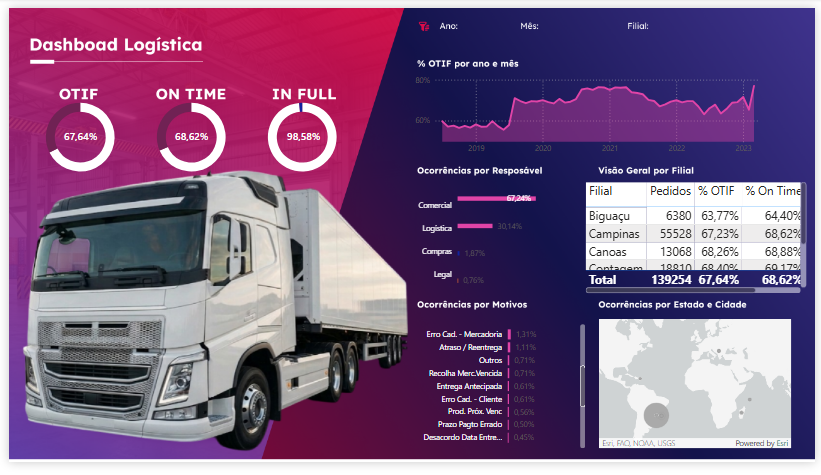

What the dashboard file says about the page in this screenshot:
{"tool":"powerbi","page":{"name":"Página 1","canvas":[1280,720],"ordinal":0},"visuals":[{"type":"donutChart","fields":{"Y":["Medidas.% OTIF","Medidas.1 - % otif"]},"box":[23.2,132.1,178.6,146.4],"z":0},{"type":"areaChart","fields":{"Y":["Medidas.% OTIF"],"Category":["Pedidos.DataPedido.Variation.Hierarquia de datas.Ano","Pedidos.DataPedido.Variation.Hierarquia de datas.Mês"]},"box":[639.1,100,560.9,141.3],"z":1000},{"type":"clusteredBarChart","fields":{"Y":["Medidas.Ocorrências"],"Category":["Pedidos.MotivoOcorrencia"]},"box":[640.5,489.2,278.4,214.9],"z":2000},{"type":"esriVisual","fields":{"Size":["Medidas.Ocorrências"],"Location":["Pedidos.Estado"],"Color":["Pedidos.Cidade"]},"box":[932.4,489.2,314.9,214.9],"z":3000},{"type":"tableEx","fields":{"Values":["Pedidos.Filial","Medidas.Pedidos","Medidas.% OTIF","Medidas.% On Time","Medidas.% In Full"]},"box":[909.5,271.6,360.8,186.5],"z":4000},{"type":"card","fields":{"Values":["Medidas.% OTIF"]},"box":[25,137.5,176.8,133.9],"z":5000},{"type":"card","fields":{"Values":["Medidas.% On Time"]},"box":[201.8,137.5,176.8,133.9],"z":6000},{"type":"card","fields":{"Values":["Medidas.% In Full"]},"box":[378.6,137.5,176.8,133.9],"z":7000},{"type":"donutChart","fields":{"Y":["Medidas.% In Full","Medidas.1 - % In Full"]},"box":[376.8,132.1,178.6,146.4],"z":8000},{"type":"donutChart","fields":{"Y":["Medidas.% On Time","Medidas.1 - % On Time"]},"box":[200,132.1,178.6,146.4],"z":9000},{"type":"clusteredBarChart","fields":{"Category":["Pedidos.ResponsabilidadeOcorrencia"],"Series":["Pedidos.ResponsabilidadeOcorrencia"],"Y":["Medidas.Ocorrências"]},"box":[639.3,271.4,242.9,185.7],"z":10000}]}

Visuals, with their boxes in screenshot pixels (x1, y1, x2, y2), scaled from the page's 1280x720 canvas onto the 821x475 screenshot:
donutChart - Medidas.% OTIF x Medidas.1 - % otif: region(15, 87, 129, 184)
areaChart - Medidas.% OTIF x Pedidos.DataPedido.Variation.Hierarquia de datas.Ano: region(410, 66, 770, 159)
clusteredBarChart - Medidas.Ocorrências x Pedidos.MotivoOcorrencia: region(411, 323, 589, 465)
esriVisual - Medidas.Ocorrências x Pedidos.Estado: region(598, 323, 800, 465)
tableEx - Pedidos.Filial x Medidas.Pedidos: region(583, 179, 815, 302)
card - Medidas.% OTIF: region(16, 91, 129, 179)
card - Medidas.% On Time: region(129, 91, 243, 179)
card - Medidas.% In Full: region(243, 91, 356, 179)
donutChart - Medidas.% In Full x Medidas.1 - % In Full: region(242, 87, 356, 184)
donutChart - Medidas.% On Time x Medidas.1 - % On Time: region(128, 87, 243, 184)
clusteredBarChart - Pedidos.ResponsabilidadeOcorrencia x Pedidos.ResponsabilidadeOcorrencia: region(410, 179, 566, 302)
